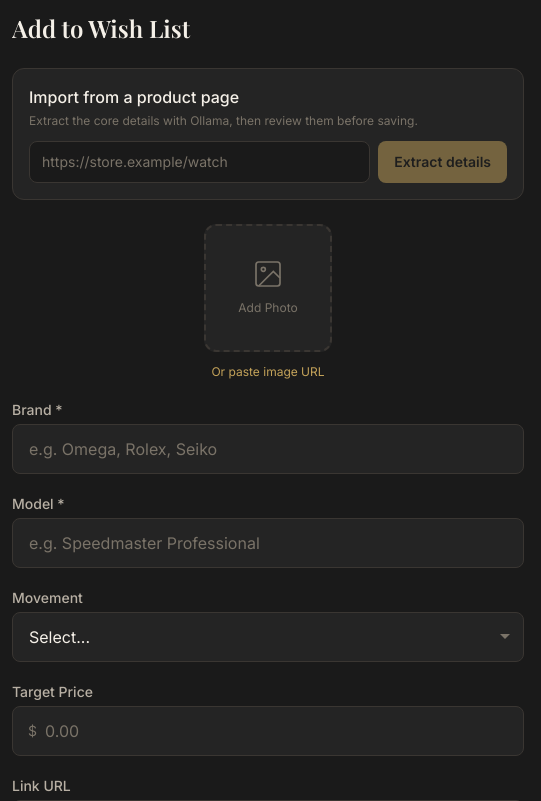
Test: wishlist URL import › leaves manually entered values intact when extraction fails
In the field with placeholder "e.g. Omega, Rolex, Seiko": {"x": 268, "y": 449} [12, 424, 524, 474], type "My manual brand"
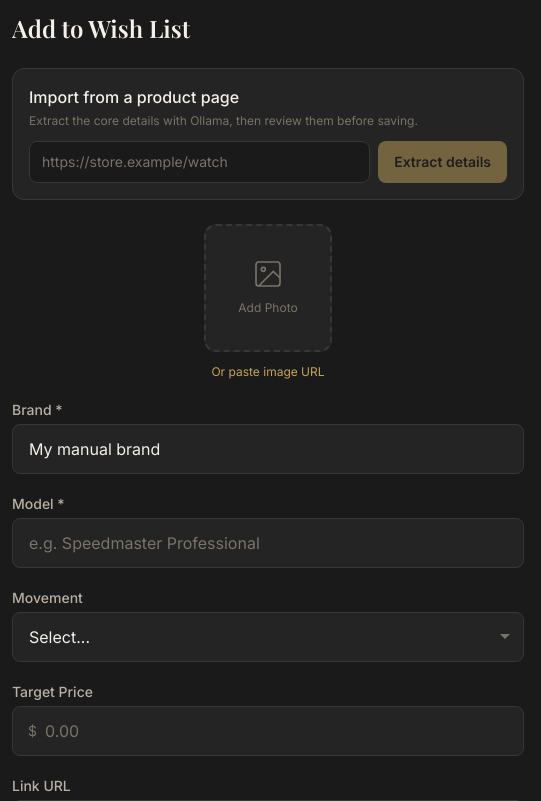
In the field with test id "wishlist-source-url": {"x": 200, "y": 162} [29, 141, 370, 183], type "https://shop.example.test/watch"
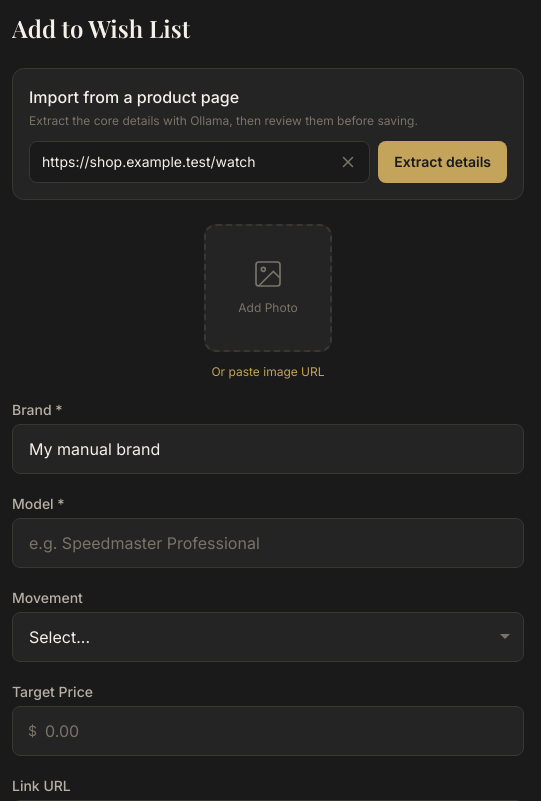
Click the button "Extract details": {"x": 443, "y": 162} [378, 141, 507, 183]
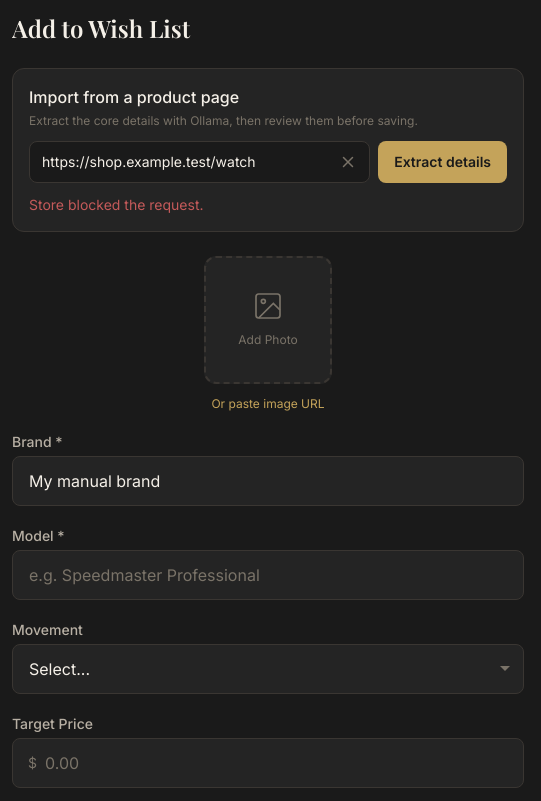
Check: the text "Store blocked the request." is shown, box [29, 196, 204, 213]
